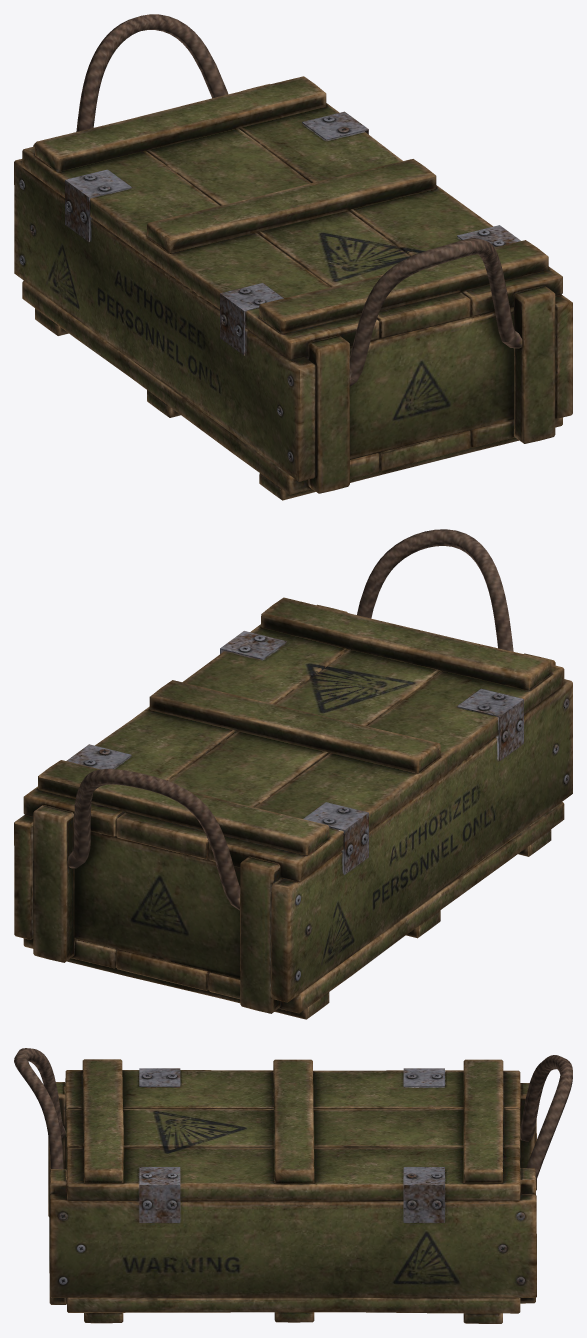
The model's file is obj_ammo_crate_wear_and_tear_92b57e.glb.
3 views of the same model, one above another, from view 1: azimuth 30°, elevation 25°; view 2: azimuth 150°, elevation 25°; view 3: azimuth 270°, elevation 25° (orthographic). The views are drawn at different scales.
Parts seen in each view (by area): view 1: obj_ammo_crate_wear_and_tear_92b57e; view 2: obj_ammo_crate_wear_and_tear_92b57e; view 3: obj_ammo_crate_wear_and_tear_92b57e.
Part boxes in pixels (x1,y1,x2,y2): obj_ammo_crate_wear_and_tear_92b57e: [14, 14, 572, 500]; obj_ammo_crate_wear_and_tear_92b57e: [14, 529, 572, 1019]; obj_ammo_crate_wear_and_tear_92b57e: [14, 1048, 572, 1323].
Bounding box in the file's own units: 0.2487 × 0.2104 × 0.5.
1 material, 1 textured.
